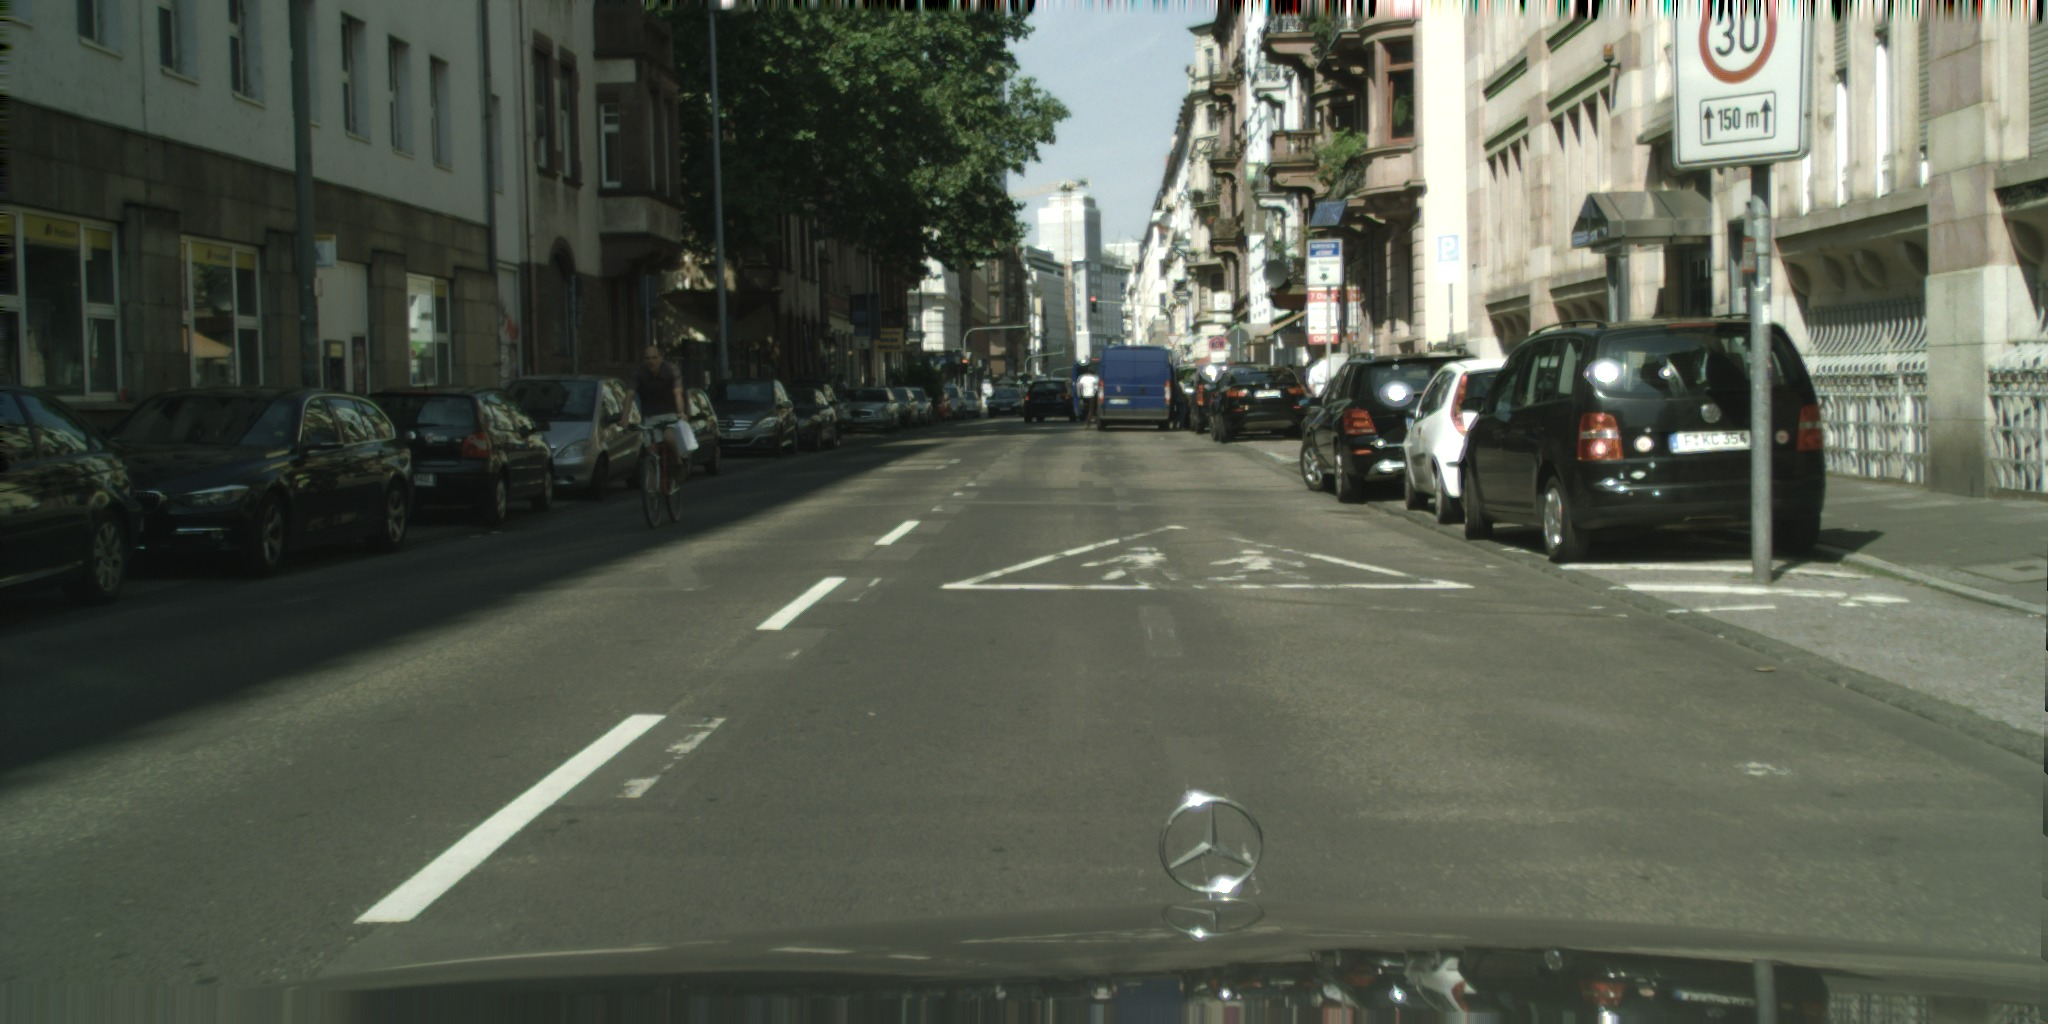bicycle: (626, 418, 683, 529)
car: (1458, 313, 1826, 563), (81, 386, 415, 577), (0, 386, 141, 605), (351, 385, 554, 524), (1300, 352, 1478, 503), (1403, 358, 1538, 524), (499, 374, 649, 499), (1071, 345, 1172, 431), (1208, 364, 1313, 443), (631, 385, 721, 476), (697, 379, 799, 459), (1184, 362, 1256, 435), (777, 388, 837, 452), (827, 388, 901, 432), (1159, 365, 1208, 429), (776, 381, 839, 422), (1024, 378, 1077, 422), (878, 388, 919, 427), (892, 388, 932, 426), (986, 388, 1032, 418), (918, 390, 953, 423), (937, 383, 967, 418), (953, 391, 983, 417)
person: (1307, 352, 1336, 402), (1076, 365, 1098, 428), (1173, 373, 1187, 429), (832, 374, 850, 401)
rider: (620, 346, 699, 487)
